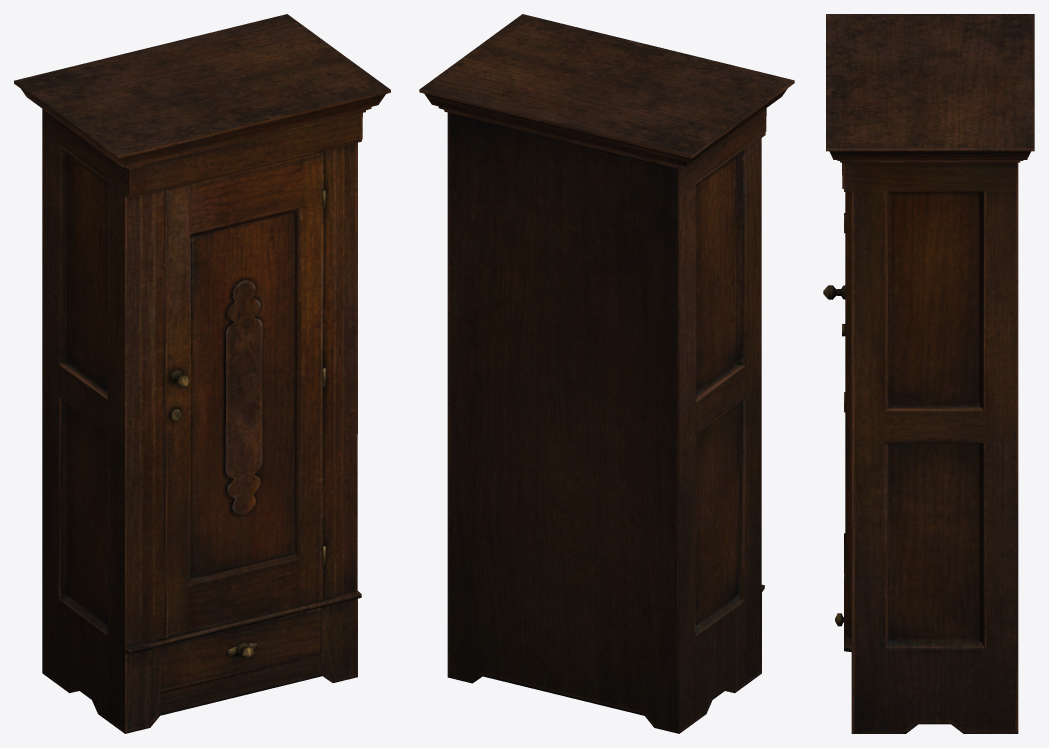
File: armario.obj
The picture shows the model from 3 angles, left to right: view 1: azimuth 30°, elevation 25°; view 2: azimuth 150°, elevation 25°; view 3: azimuth 270°, elevation 25°; orthographic projection.
Parts seen in each view (by area): view 1: armario; view 2: armario; view 3: armario.
Part boxes in pixels (x1,y1,x2,y2): armario: (14,14,390,733); armario: (419,14,794,733); armario: (823,14,1034,733).
Bounding box in the file's own units: 56.66 × 117 × 37.66.
Materials: 1 (1 with a texture image).
